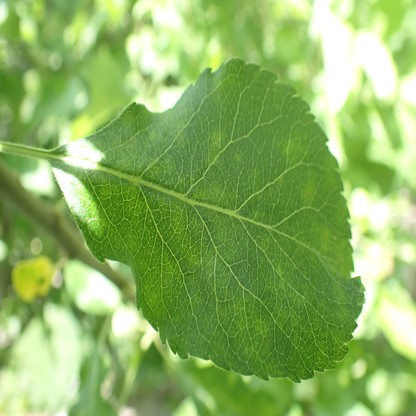scab: (230, 299, 266, 354), (300, 168, 318, 202), (206, 132, 224, 162), (318, 224, 334, 252), (286, 137, 300, 157)
